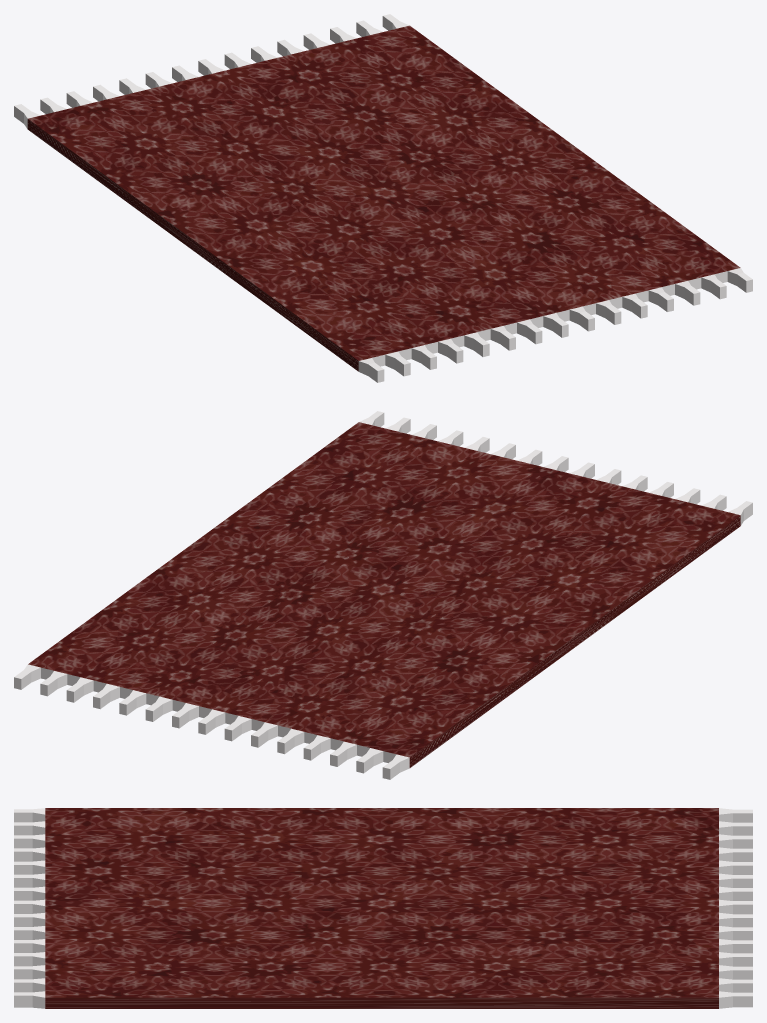
File: rug.fbx
The picture shows the model from 3 angles, top to bottom: view 1: azimuth 30°, elevation 25°; view 2: azimuth 150°, elevation 25°; view 3: azimuth 270°, elevation 25°; orthographic projection.
Parts seen in each view (by area): view 1: Cube; view 2: Cube; view 3: Cube.
Boxes of the visible parts, box(x1,y1,x2,y2) form: Cube: box(14, 14, 752, 382); Cube: box(14, 411, 752, 779); Cube: box(14, 808, 752, 1008).
Bounding box in the file's own units: 122 × 3.63 × 201.
2 materials, 1 textured.
